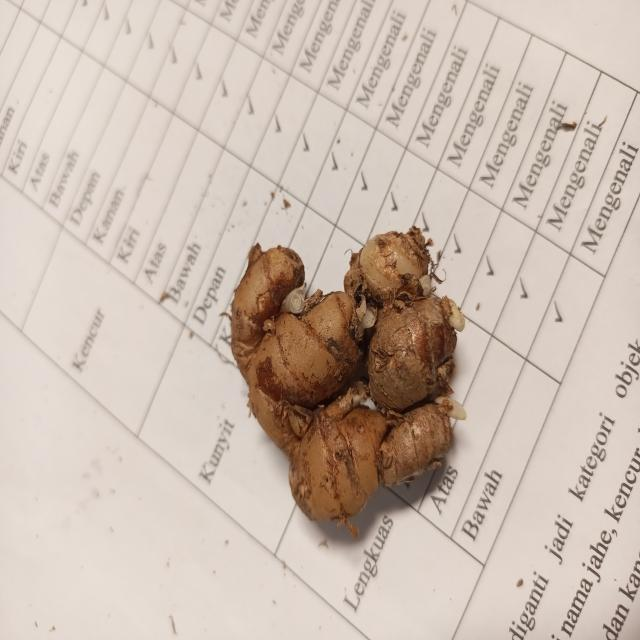ginger: (230, 248, 450, 498)
